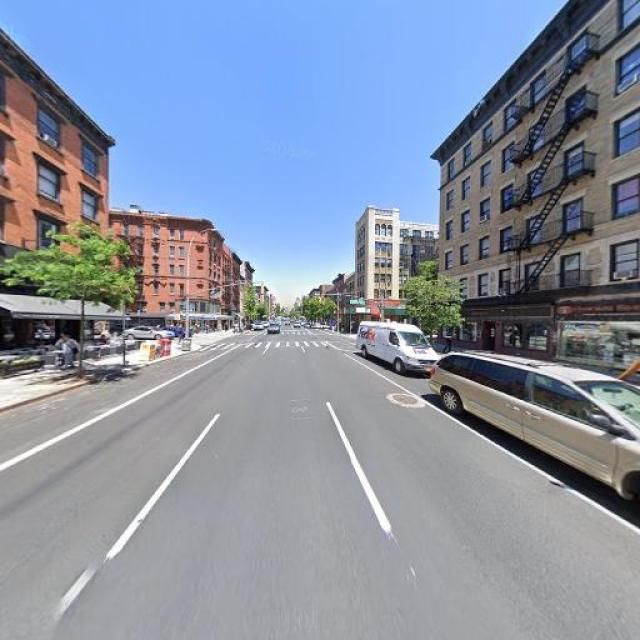Building: (439, 1, 640, 379), (1, 30, 107, 364), (48, 208, 220, 334), (357, 207, 399, 334), (222, 247, 229, 329), (232, 258, 238, 328)
